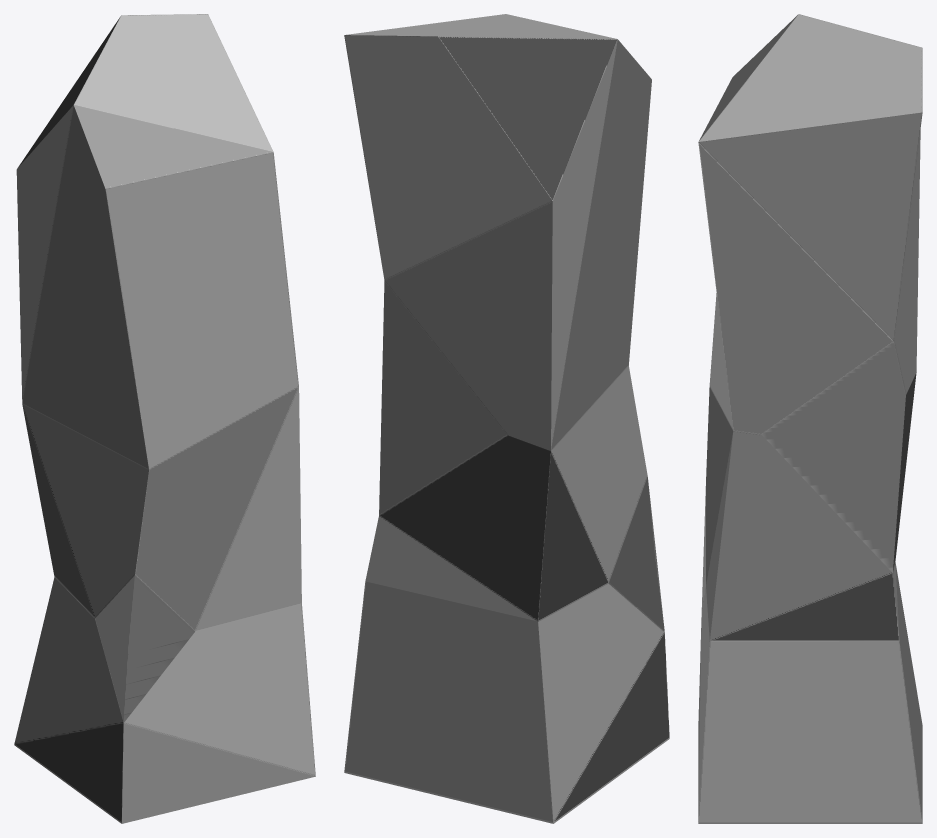
Rendered from Cave_Wall.fbx.
3 renders of one model, left to right at view 1: azimuth 30°, elevation 25°; view 2: azimuth 150°, elevation 25°; view 3: azimuth 270°, elevation 25°, orthographic. The views are drawn at different scales.
Visible parts, largest first — view 1: Cube.001; view 2: Cube.001; view 3: Cube.001.
Boxes of the visible parts, left/top/right/bottom form: Cube.001: left=14, top=14, right=315, bottom=823; Cube.001: left=344, top=14, right=669, bottom=823; Cube.001: left=698, top=14, right=922, bottom=823.
Size of the model in its own units: 18.7 by 64.81 by 17.99.
